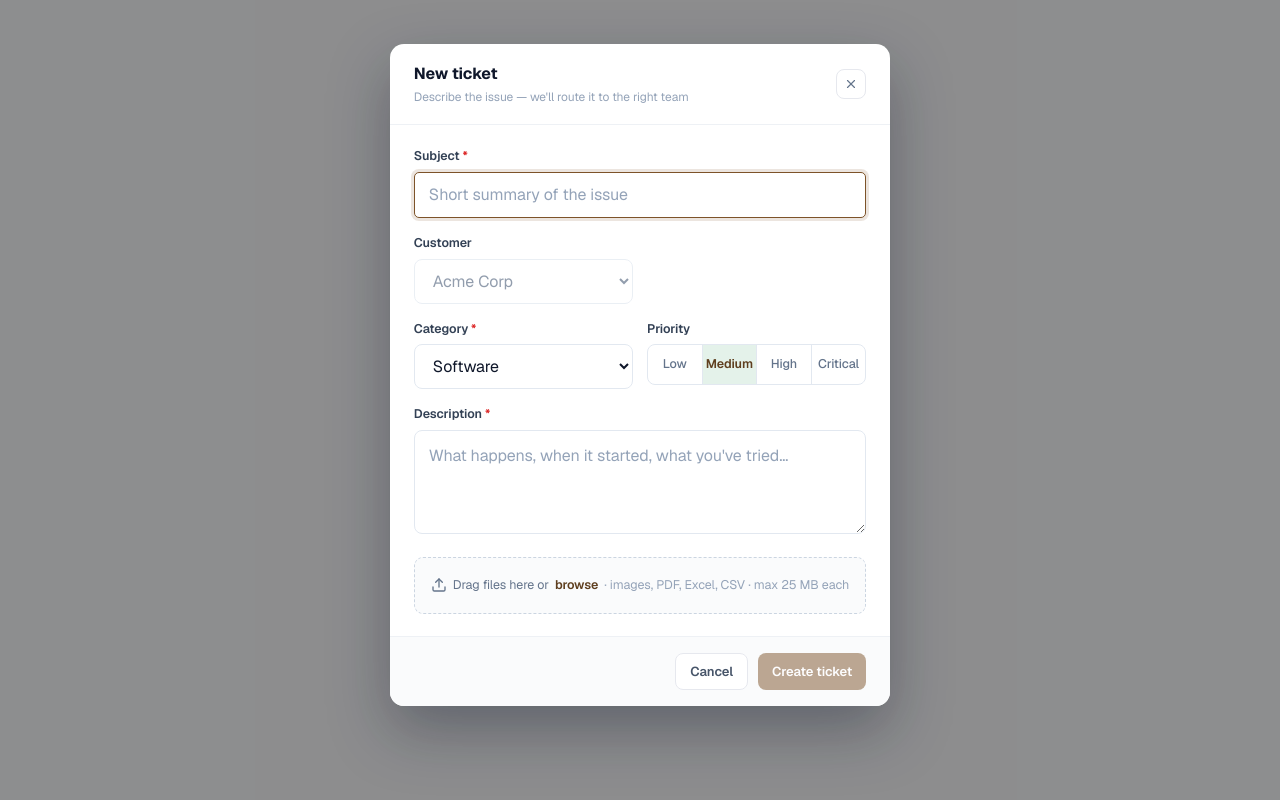
Test: a form with something in it › refuses a backdrop click and asks instead
Type "printer on fire" into the field labelled "Subject *".
click(640, 195); type("printer on fire")  # box [414,172,866,218]
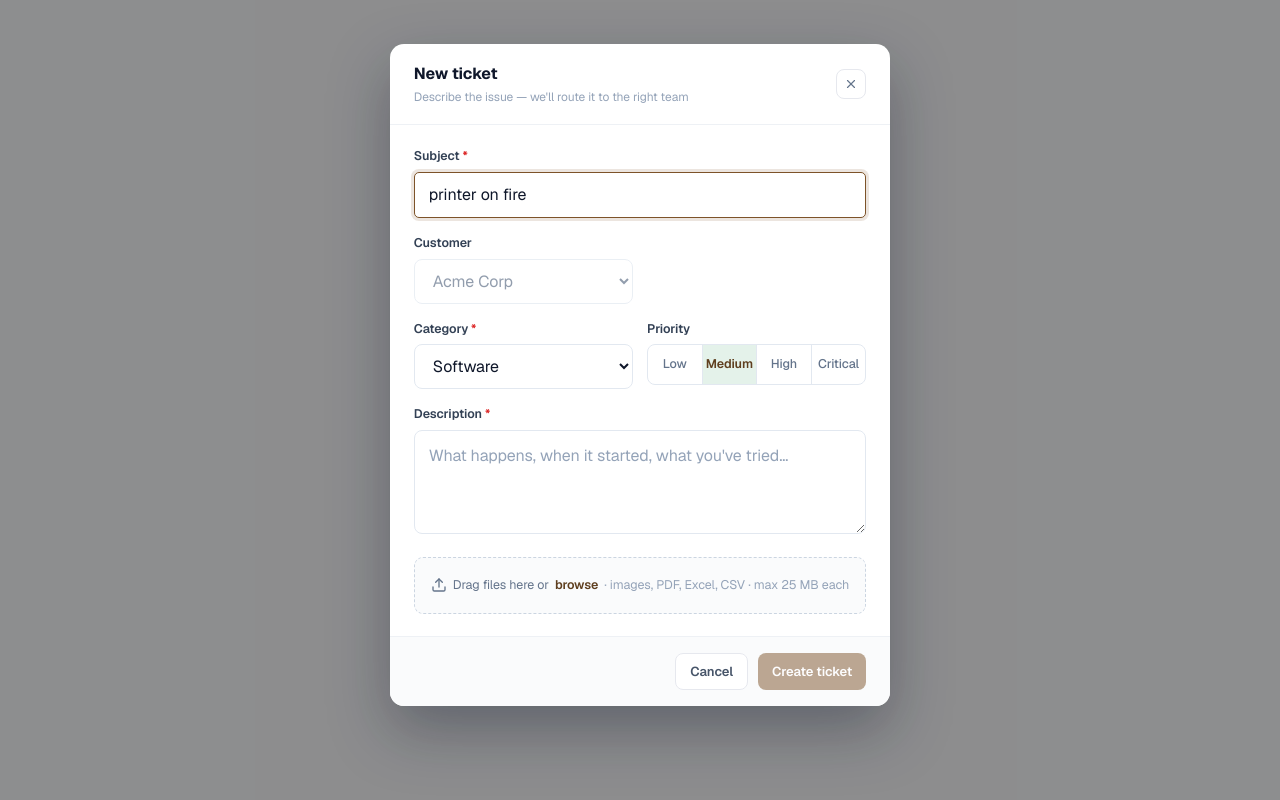
Click the element that starts with "New ticket".
click(77, 400)  # box [0,0,1279,799]
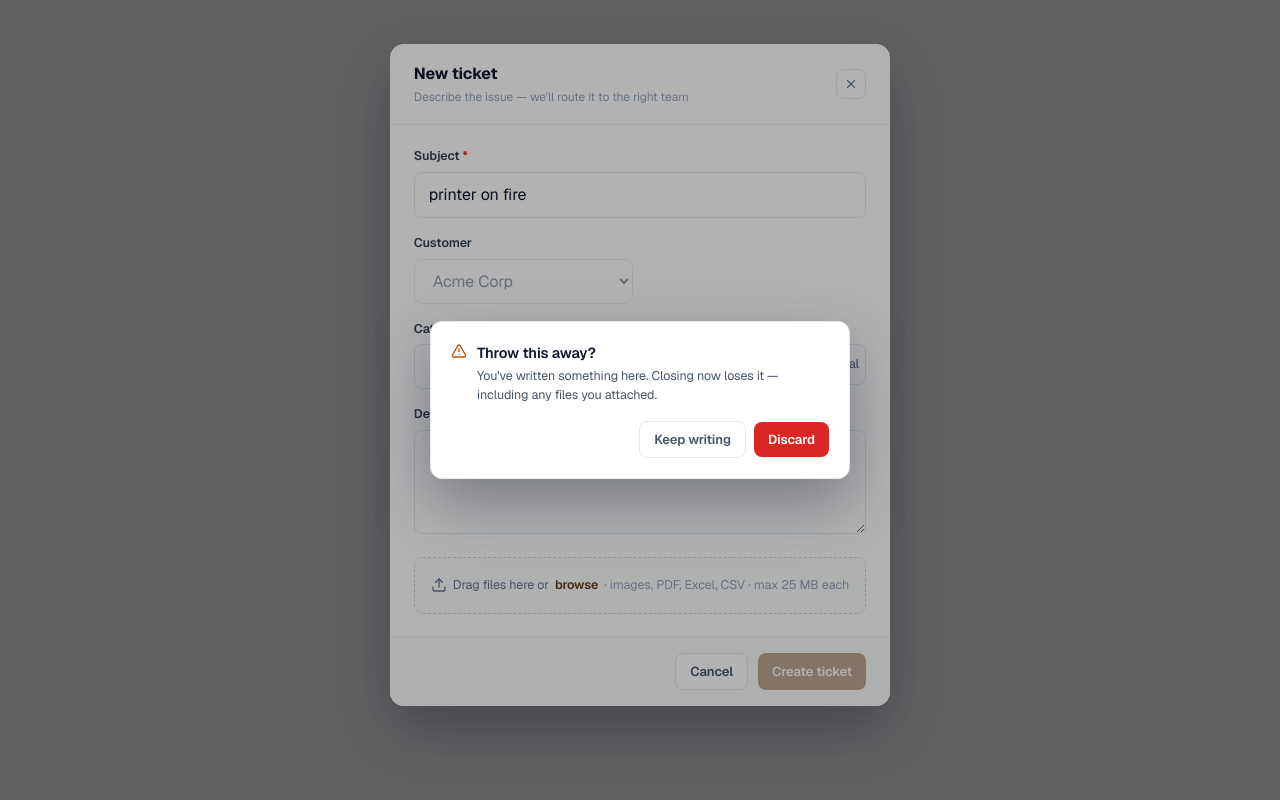
Result: the text "Throw this away?" is shown at [477,343,596,362]
